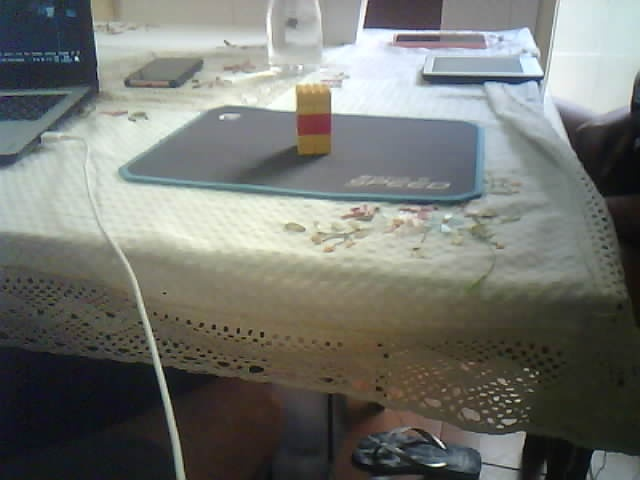lego: (293, 84, 332, 156)
